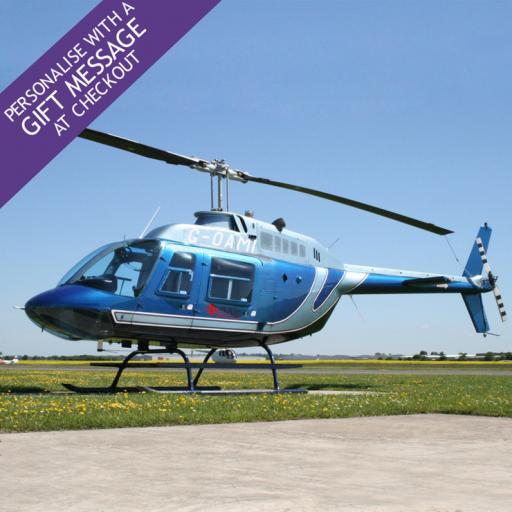helicopter: (17, 130, 508, 404)
